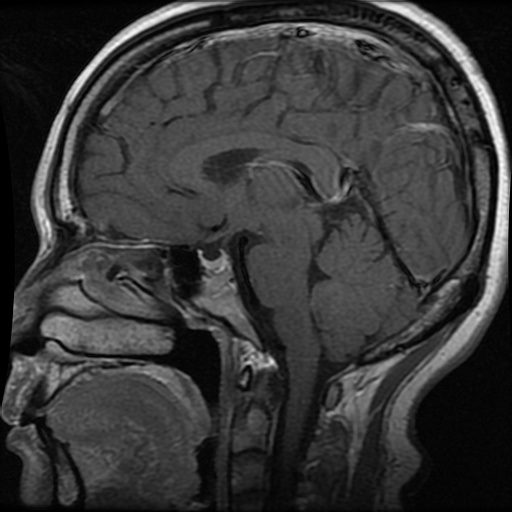pituitary: (199, 249, 228, 272)
